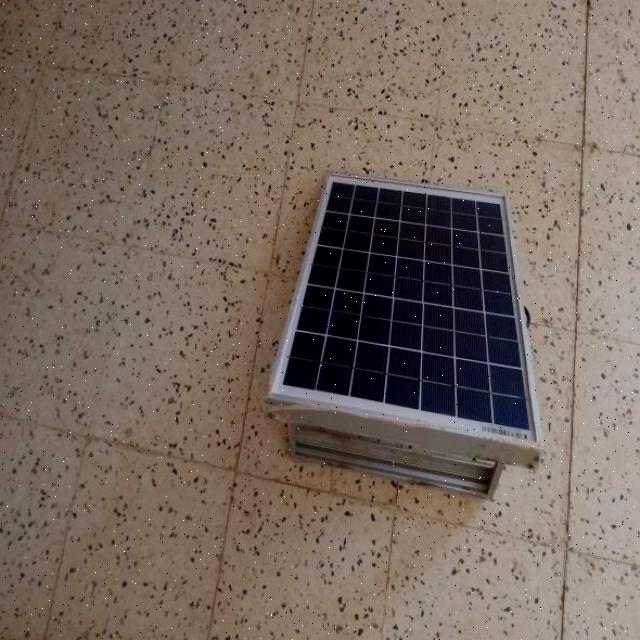Normal Solar Panel: (264, 180, 536, 442)
